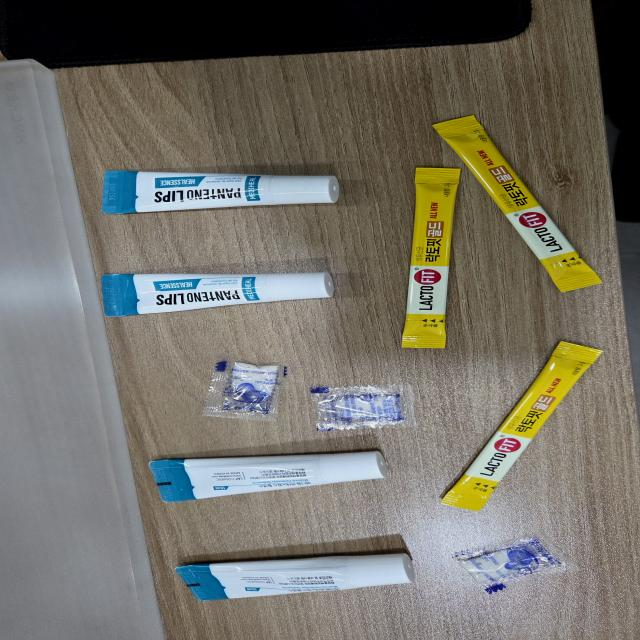lacto: (428, 109, 612, 295), (442, 336, 608, 518), (396, 160, 459, 355)
lib: (147, 450, 393, 506), (175, 548, 421, 602), (93, 164, 344, 214), (99, 268, 344, 317)
salt: (301, 378, 431, 436), (452, 536, 576, 596), (198, 354, 292, 431)
